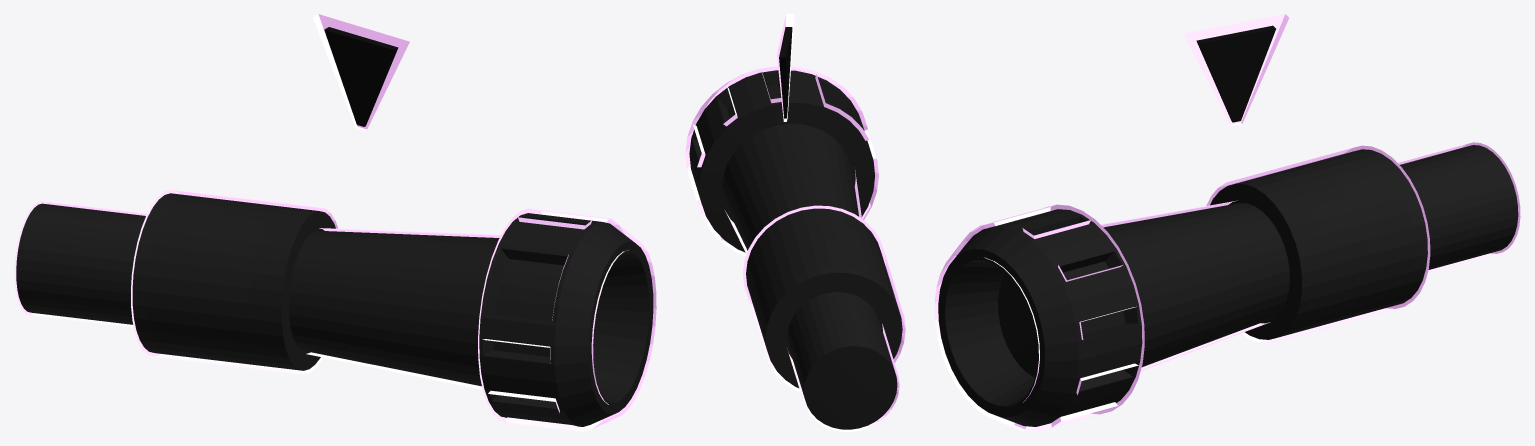
The model's file is start.glb.
The picture shows the model from 3 angles, left to right: view 1: azimuth 30°, elevation 25°; view 2: azimuth 150°, elevation 25°; view 3: azimuth 270°, elevation 25°; orthographic projection. The views are drawn at different scales.
Visible parts, largest first — view 1: Cylinder.002, Cylinder, Cube; view 2: Cylinder.002, Cylinder, Cube; view 3: Cylinder.002, Cylinder, Cube.
Part boxes in pixels (bbox=[...]): Cylinder.002: bbox=[16, 193, 653, 426]; Cylinder: bbox=[14, 189, 656, 431]; Cube: bbox=[313, 14, 409, 130]; Cylinder.002: bbox=[689, 70, 902, 429]; Cylinder: bbox=[685, 66, 905, 431]; Cube: bbox=[777, 14, 794, 121]; Cylinder.002: bbox=[938, 145, 1518, 426]; Cylinder: bbox=[934, 142, 1520, 431]; Cube: bbox=[1183, 14, 1288, 125].
Size of the model in its own units: 4.84 by 3.63 by 5.61.
Materials: 2 (1 with a texture image).
